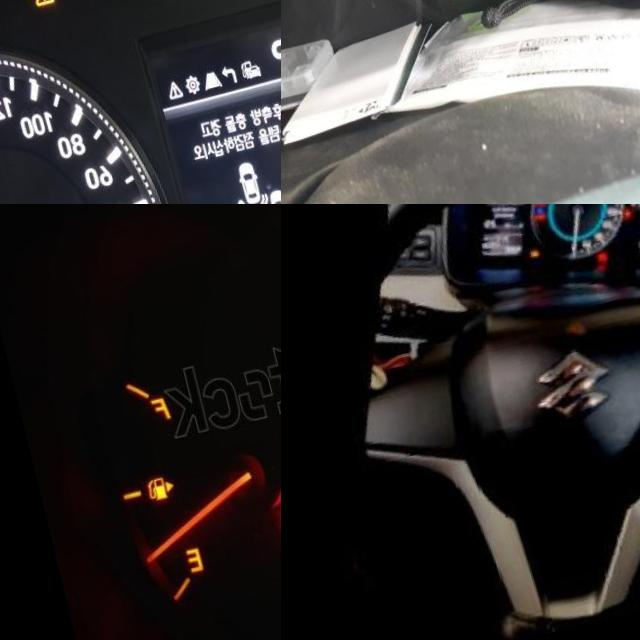Central Warning lamp: (26, 0, 51, 16)
High Engine Coolant Temperature: (526, 216, 537, 226)
